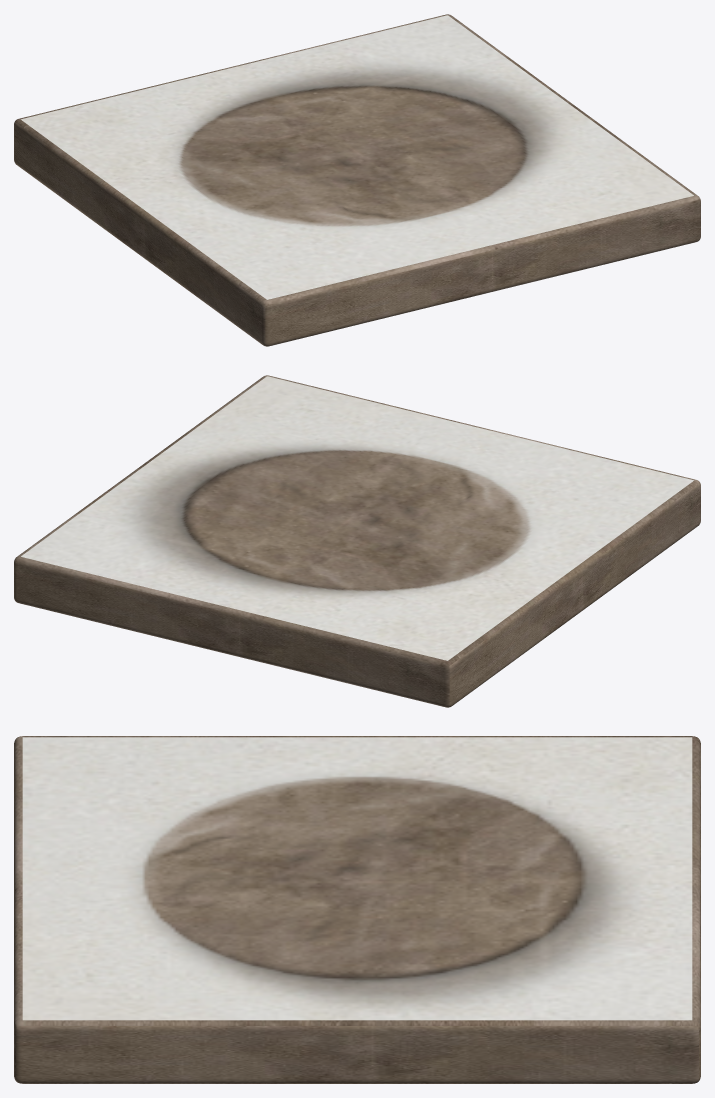
Rendered from tile2.glb.
The picture shows the model from 3 angles, top to bottom: view 1: azimuth 30°, elevation 25°; view 2: azimuth 150°, elevation 25°; view 3: azimuth 270°, elevation 25°; orthographic projection. The views are drawn at different scales.
Parts seen in each view (by area): view 1: Box001; view 2: Box001; view 3: Box001.
Part boxes in pixels (box(x1,y1,x2,y2)): Box001: box(14, 14, 700, 346); Box001: box(14, 375, 700, 707); Box001: box(14, 736, 700, 1083).
Size of the model in its own units: 0.254 by 0.0254 by 0.254.
Materials: 2 (2 with a texture image).
